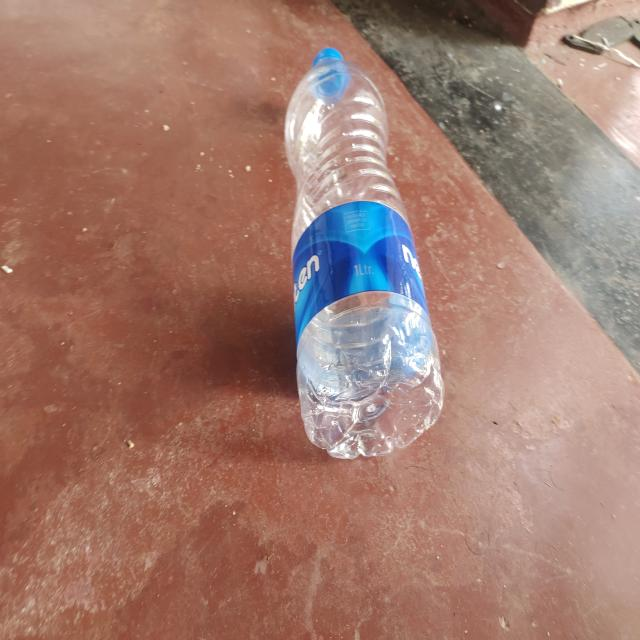plastic: (282, 46, 446, 461)
